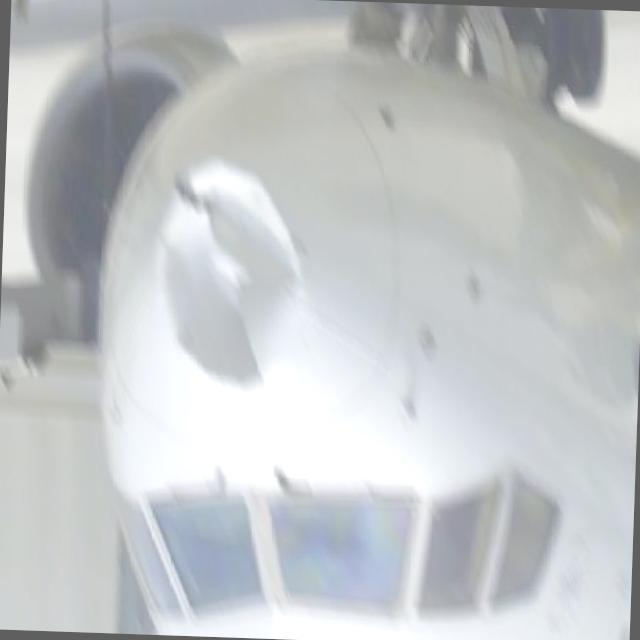dent: (141, 144, 316, 398)
